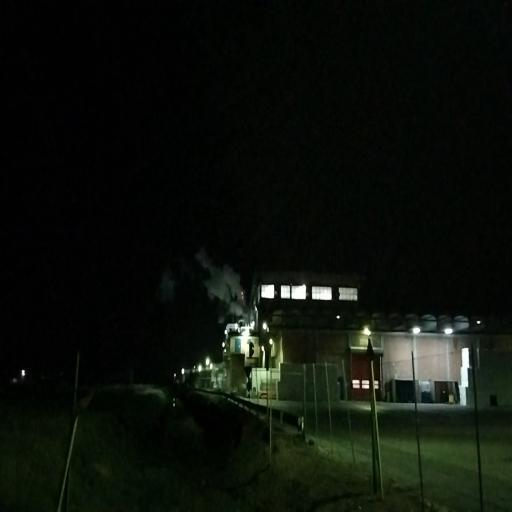leakage: (196, 236, 252, 326), (156, 260, 182, 302)
